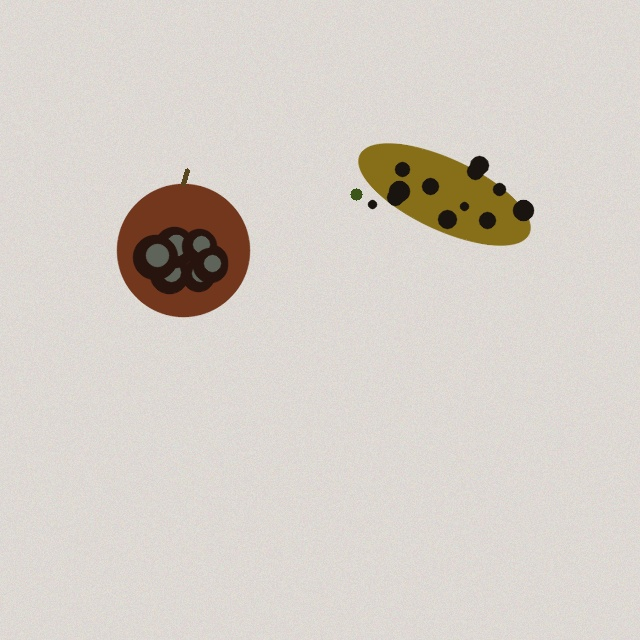Rotten apple: (117, 170, 249, 316)
Rotten banana: (347, 151, 541, 237)
